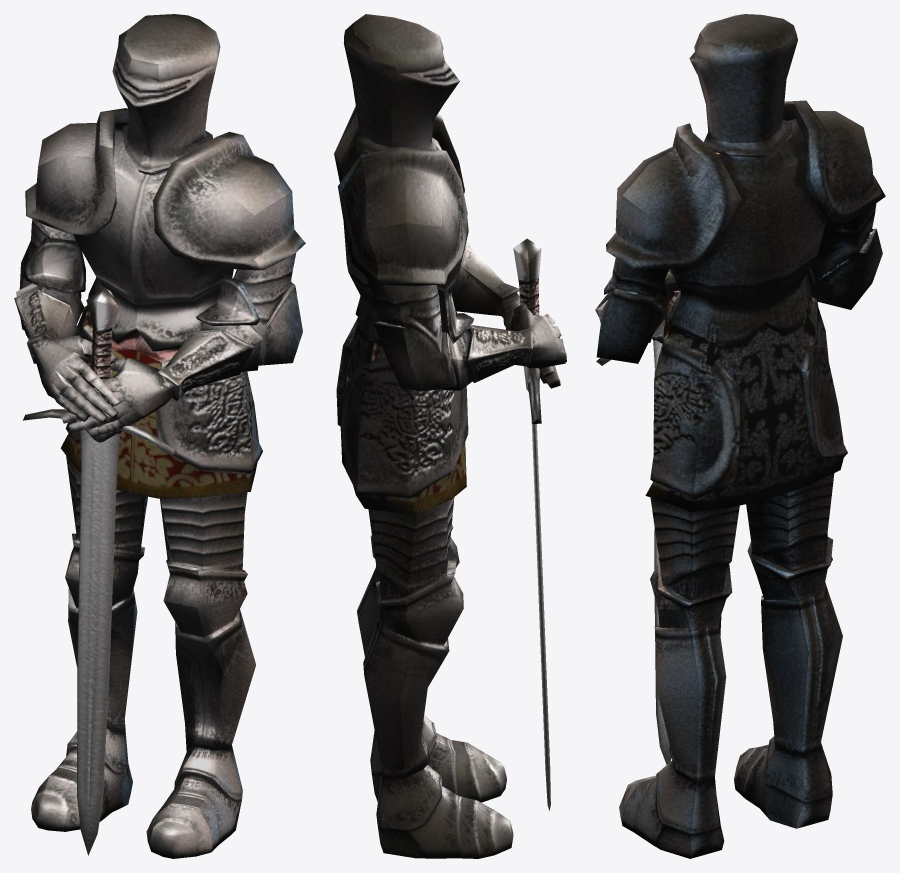
File: knight2.obj
3 renders of one model, left to right at view 1: azimuth 30°, elevation 25°; view 2: azimuth 150°, elevation 25°; view 3: azimuth 270°, elevation 25°, orthographic. The views are drawn at different scales.
Visible parts, largest first — view 1: Box03; view 2: Box03; view 3: Box03.
Boxes of the visible parts, bbox=[...] form: Box03: bbox=[14, 14, 305, 858]; Box03: bbox=[334, 14, 566, 858]; Box03: bbox=[595, 14, 885, 858].
Size of the model in its own units: 0.5677 by 1.85 by 0.5951.
1 material, 1 textured.
